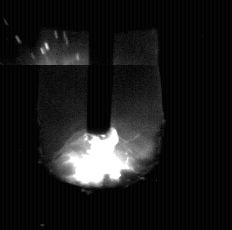arame: (87, 0, 112, 139)
poca: (38, 0, 160, 230)
